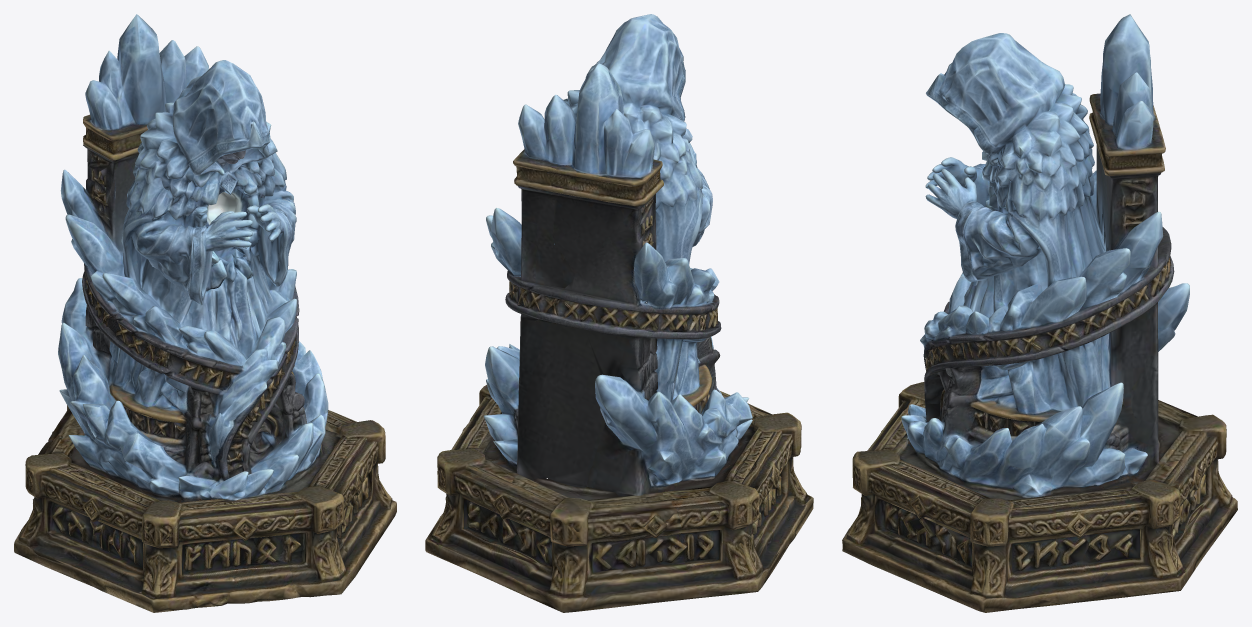
Rendered from coracao_branco.glb.
The picture shows the model from 3 angles, left to right: view 1: azimuth 30°, elevation 25°; view 2: azimuth 150°, elevation 25°; view 3: azimuth 270°, elevation 25°; orthographic projection. The views are drawn at different scales.
Visible parts, largest first — view 1: tripo_node_13ae2c10-5ada-4b07-a045-b1857cca98ce; view 2: tripo_node_13ae2c10-5ada-4b07-a045-b1857cca98ce; view 3: tripo_node_13ae2c10-5ada-4b07-a045-b1857cca98ce.
Boxes of the visible parts, x1,y1,x2,y2 form: tripo_node_13ae2c10-5ada-4b07-a045-b1857cca98ce: (14,14,396,612); tripo_node_13ae2c10-5ada-4b07-a045-b1857cca98ce: (425,14,813,612); tripo_node_13ae2c10-5ada-4b07-a045-b1857cca98ce: (842,14,1237,612).
Size of the model in its own units: 0.6797 by 0.9779 by 0.6945.
Materials: 1 (1 with a texture image).
